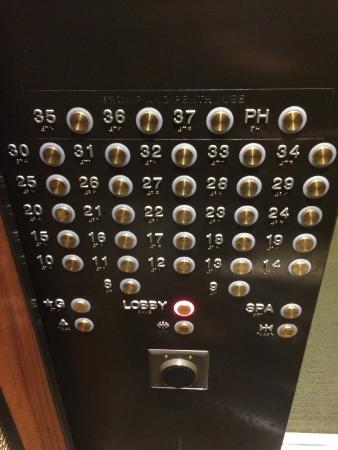button: (145, 348, 210, 392), (242, 103, 309, 136), (170, 105, 235, 136), (101, 105, 165, 135), (3, 140, 67, 170), (272, 142, 338, 171), (32, 105, 95, 135), (76, 171, 137, 200), (137, 142, 199, 170), (15, 171, 74, 200), (72, 142, 133, 170), (206, 142, 267, 169), (270, 174, 331, 201), (140, 173, 199, 200), (205, 173, 263, 200), (82, 200, 138, 227), (121, 298, 197, 317), (143, 202, 198, 228), (203, 203, 260, 228), (21, 201, 77, 226), (267, 205, 324, 228), (242, 300, 303, 321), (264, 232, 319, 255), (29, 228, 82, 251), (205, 231, 257, 254), (91, 252, 142, 275), (145, 254, 197, 276), (262, 256, 314, 278), (86, 230, 140, 251), (202, 256, 255, 277), (40, 294, 93, 315), (35, 252, 85, 274), (145, 231, 197, 252), (103, 275, 144, 298), (154, 318, 198, 339), (254, 321, 300, 341), (206, 278, 251, 298), (56, 316, 96, 335)
